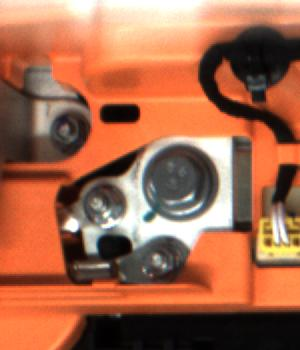nut_b: (140, 145, 221, 215)
